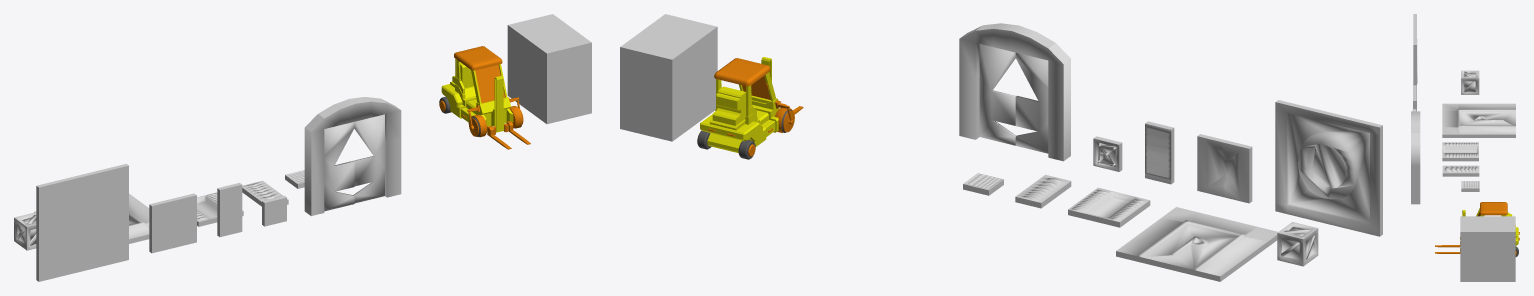
Rendered from MyAssets.fbx.
3 renders of one model, left to right at view 1: azimuth 30°, elevation 25°; view 2: azimuth 150°, elevation 25°; view 3: azimuth 270°, elevation 25°, orthographic. The views are drawn at different scales.
Visible parts, largest first — view 1: Cube.025, Cube.019, Default Player Main, Cube.024, Default Player Secondary Parts, Cube.020, Cube.021, Cube.023, Cube.017, Cube.009, Cube.010, Cube.029 (+10 smaller); view 2: Cube.025, Cube.029, Cube.019, Default Player Main, Cube.024, Cube.020, Cube.021, Cube.028, Default Player Secondary Parts, Cube.023, Cube.030, Cube.013 (+10 smaller); view 3: Cube.029, Cube.019, Cube.028, Cube.014, Cube.016, Cube.018, Cube.030, Cube.027, Default Player Secondary Parts, Cube.025, Cube.004, Cube.012 (+11 smaller).
Part boxes in pixels (box(x1,y1,x2,y2)): Cube.025: box(36, 163, 128, 281); Cube.019: box(304, 97, 401, 215); Default Player Main: box(441, 58, 513, 132); Cube.024: box(149, 193, 196, 253); Default Player Secondary Parts: box(439, 46, 523, 137); Cube.020: box(353, 114, 384, 203); Cube.021: box(324, 122, 354, 211); Cube.023: box(217, 182, 242, 236); Cube.017: box(534, 38, 569, 76); Cube.009: box(534, 91, 569, 124); Cube.010: box(534, 68, 569, 100); Cube.029: box(34, 193, 149, 243); Cube.025: box(1275, 100, 1382, 236); Cube.029: box(1116, 207, 1277, 281); Cube.019: box(959, 23, 1070, 161); Default Player Main: box(700, 57, 779, 152); Cube.024: box(1197, 134, 1252, 203); Cube.020: box(979, 44, 1016, 145); Cube.021: box(1015, 52, 1048, 153); Cube.028: box(1068, 187, 1150, 227); Default Player Secondary Parts: box(708, 58, 794, 156); Cube.023: box(1145, 121, 1174, 184); Cube.030: box(1277, 222, 1318, 266); Cube.013: box(646, 42, 687, 86); Cube.029: box(1442, 103, 1515, 137); Cube.019: box(1411, 111, 1420, 204); Cube.028: box(1442, 142, 1478, 161); Cube.014: box(1497, 224, 1515, 248); Cube.016: box(1478, 224, 1496, 248); Cube.018: box(1460, 224, 1478, 248); Cube.030: box(1461, 70, 1479, 94); Cube.027: box(1442, 165, 1479, 176); Default Player Secondary Parts: box(1460, 202, 1519, 255); Cube.025: box(1413, 14, 1417, 110); Cube.004: box(1497, 248, 1515, 265); Cube.012: box(1460, 248, 1478, 265).
Bounding box in the file's own units: 26.02 × 4.53 × 5.92.
